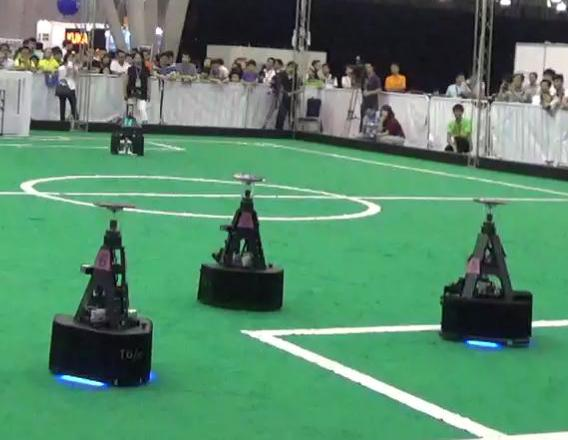robot: (41, 200, 157, 391), (436, 197, 538, 353), (193, 167, 289, 314)
